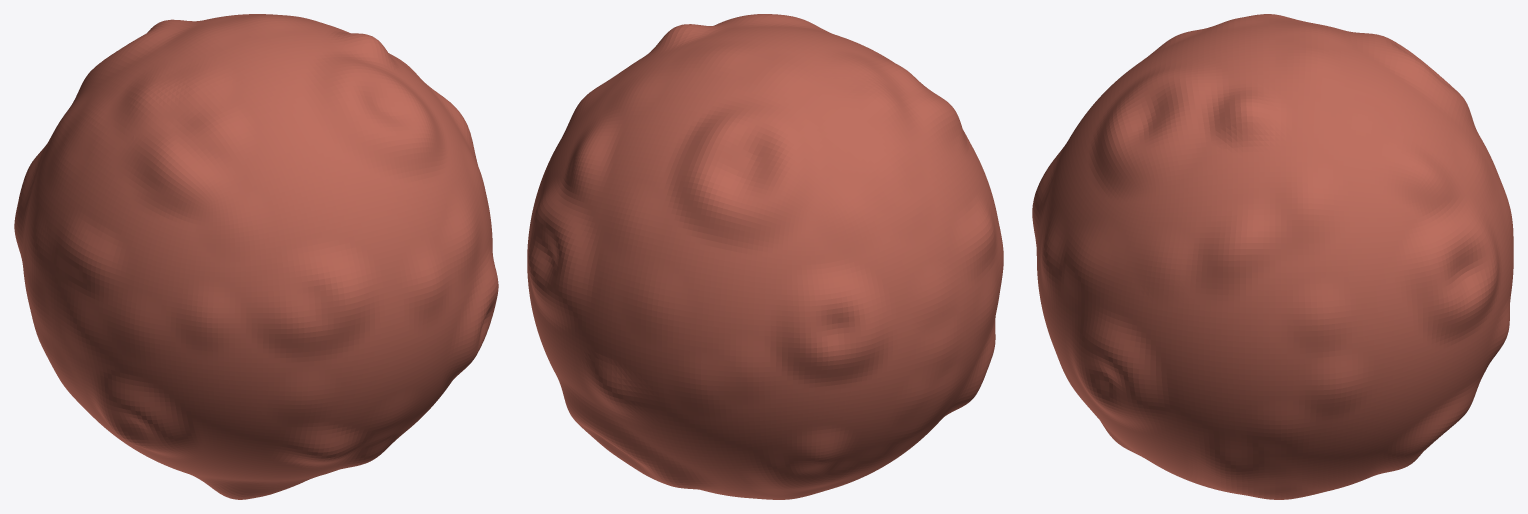
File: Planet.glb
3 renders of one model, left to right at view 1: azimuth 30°, elevation 25°; view 2: azimuth 150°, elevation 25°; view 3: azimuth 270°, elevation 25°, orthographic.
Visible parts, largest first — view 1: Quad Sphere.001; view 2: Quad Sphere.001; view 3: Quad Sphere.001.
Part boxes in pixels (x1,y1,x2,y2): Quad Sphere.001: (14,14,498,499); Quad Sphere.001: (527,14,1003,499); Quad Sphere.001: (1032,14,1513,499).
Bounding box in the file's own units: 2.57 × 2.62 × 2.59.
